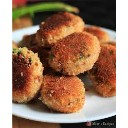cutlet: (50, 33, 100, 74), (89, 43, 119, 97), (42, 75, 85, 112), (38, 13, 87, 43), (11, 49, 40, 99)
